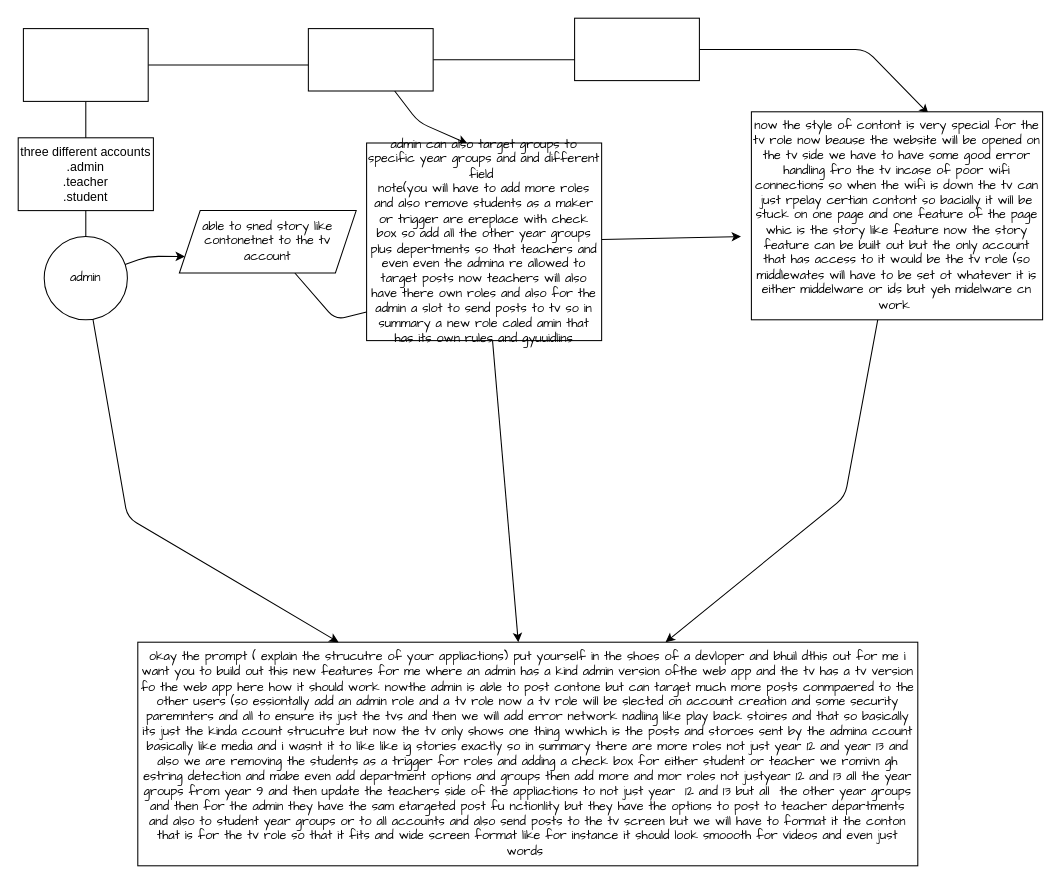
Some shapes in this 1061 by 884 pixel diagram are drawn without their labels. Here are the shapes that lost their labels. From the top down, the centre of each, then its label:
At point (85, 64): "AUTHENTICATION".
At point (370, 59): "ACCOUNTS/ROLES".
At point (636, 49): "CONTENT".
